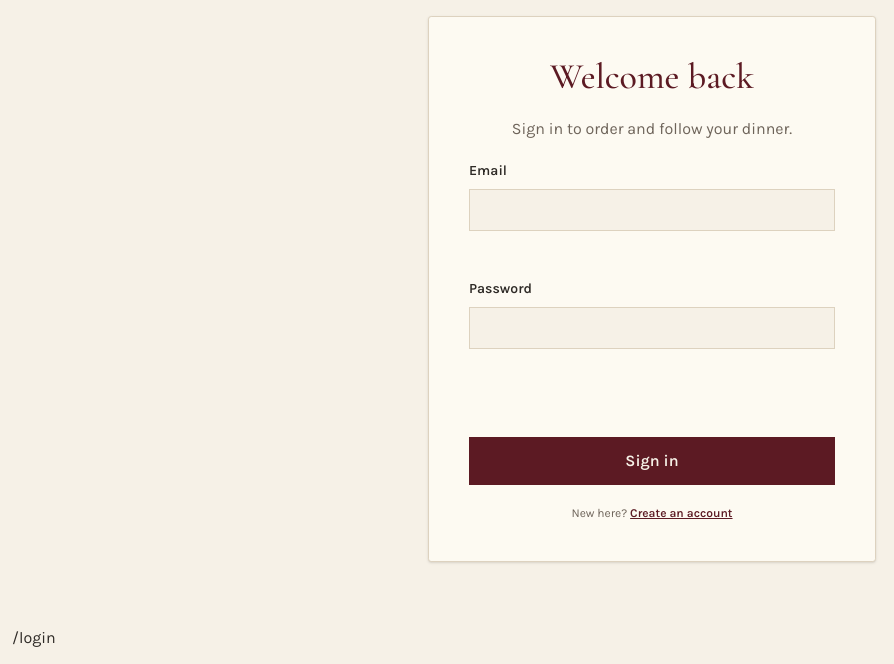
Test: LoginPage › rejects an email that is not an email
Type "mari@" into the field labelled "Email" at (652, 210), box [469,189,835,231]
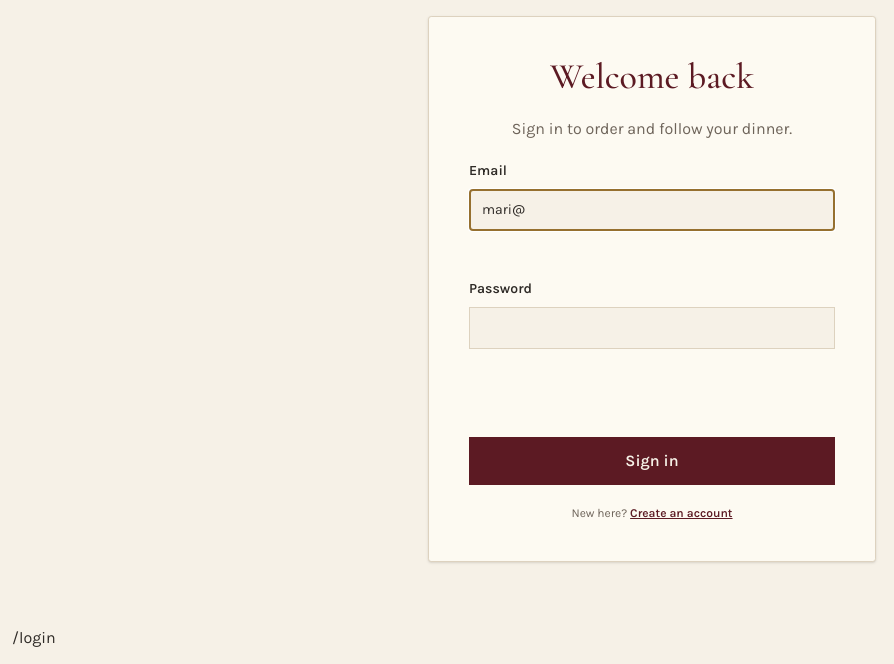
Type "whatever" into the password field labelled "Password" at (652, 328), box [469,307,835,349]
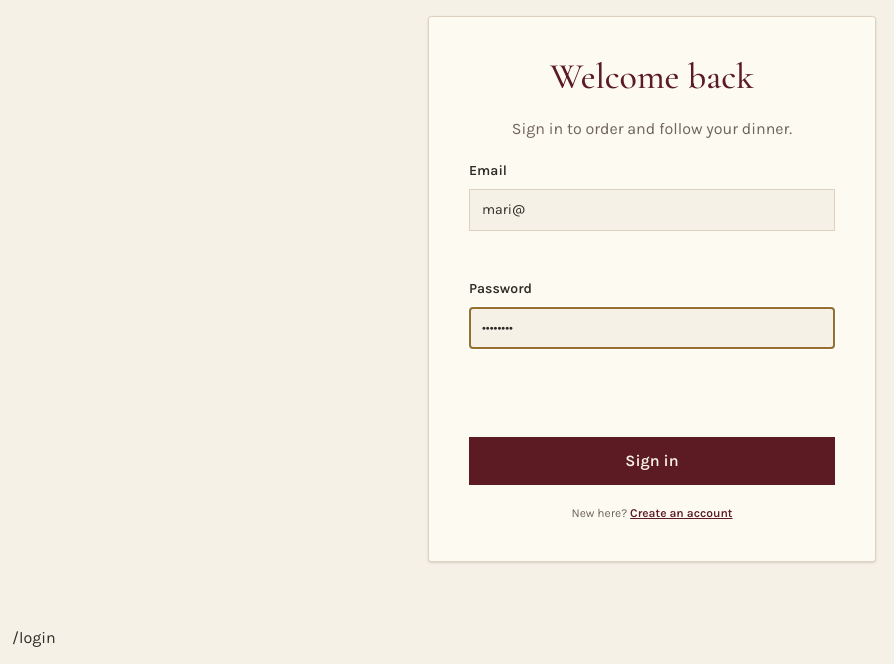
Click the button "Sign in" at (652, 461), box [469,437,835,485]
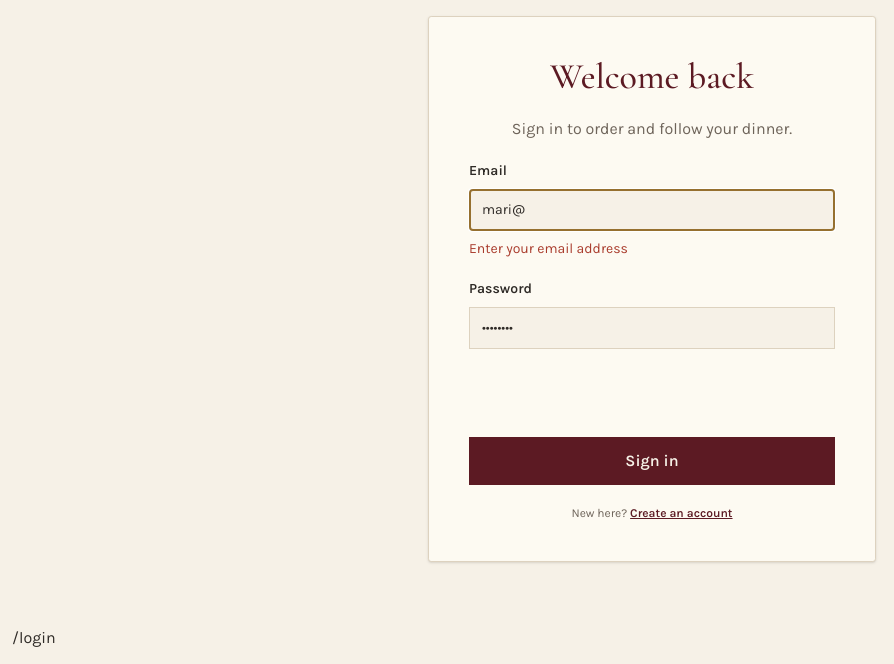
Check: the message reads "Enter your email address", box [469,240,628,257]
